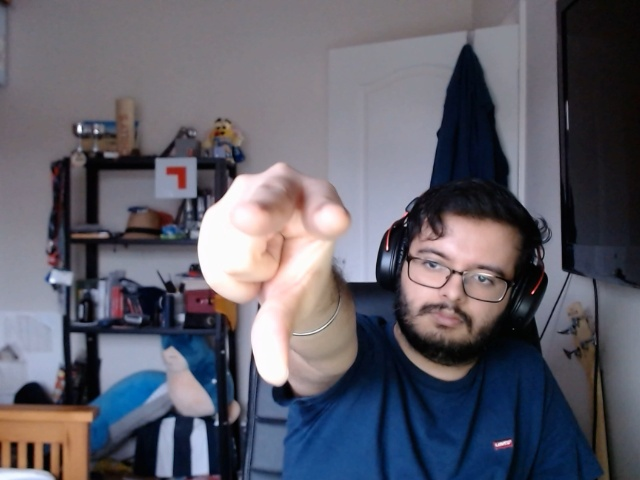No: (189, 155, 356, 395)
